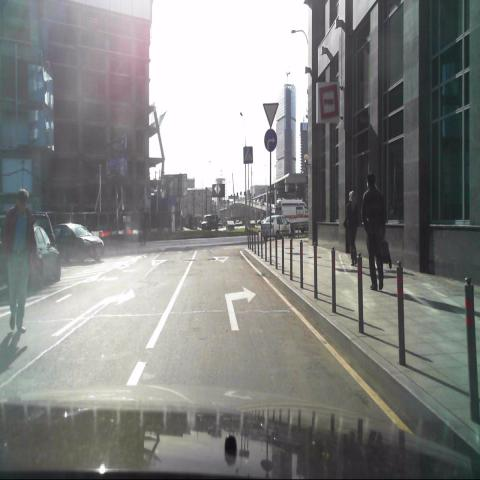4_1_2: (265, 128, 278, 151)
